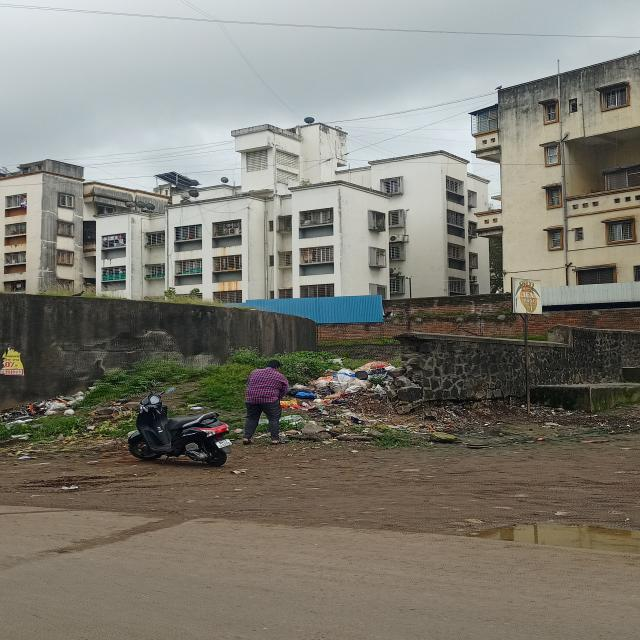garbage: (323, 360, 391, 406), (290, 377, 328, 415), (4, 402, 44, 427), (46, 391, 83, 415)
